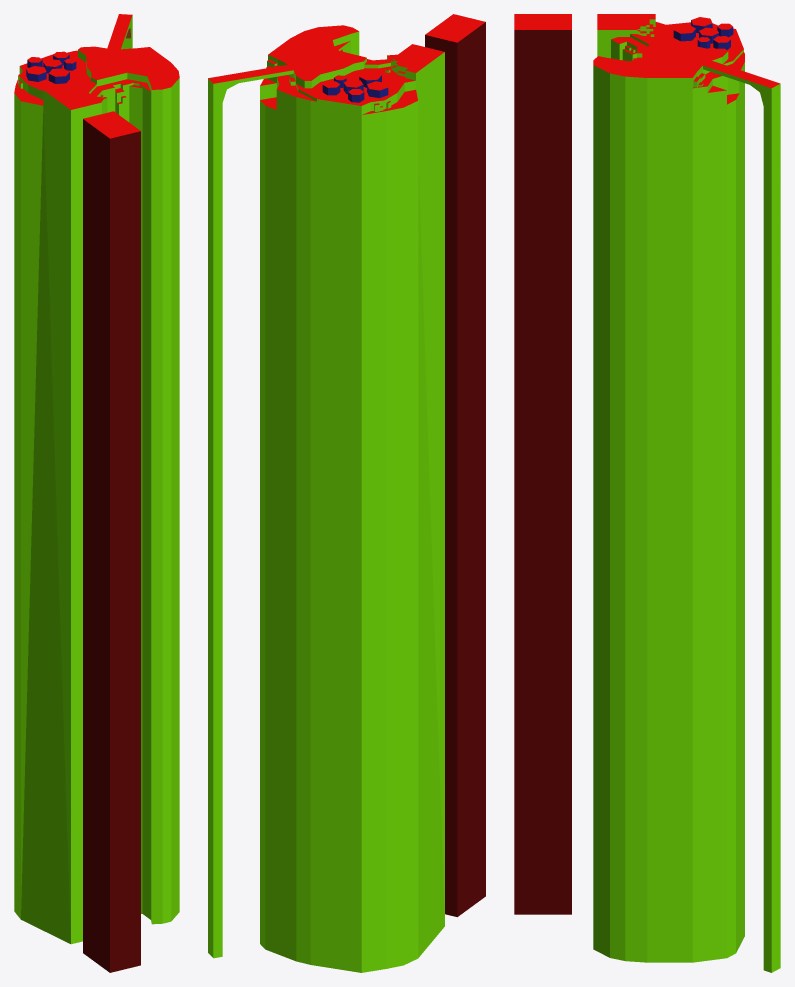
File: Playground1b.fbx
3 views of the same model, side by side, from view 1: azimuth 30°, elevation 25°; view 2: azimuth 150°, elevation 25°; view 3: azimuth 270°, elevation 25° (orthographic). The views are drawn at different scales.
Parts seen in each view (by area): view 1: Model; view 2: Model; view 3: Model.
Boxes of the visible parts, x1,y1,x2,y2 form: Model: (14, 14, 179, 972); Model: (208, 14, 485, 972); Model: (514, 14, 780, 972).
Bounding box in the file's own units: 252 × 1287 × 351.
